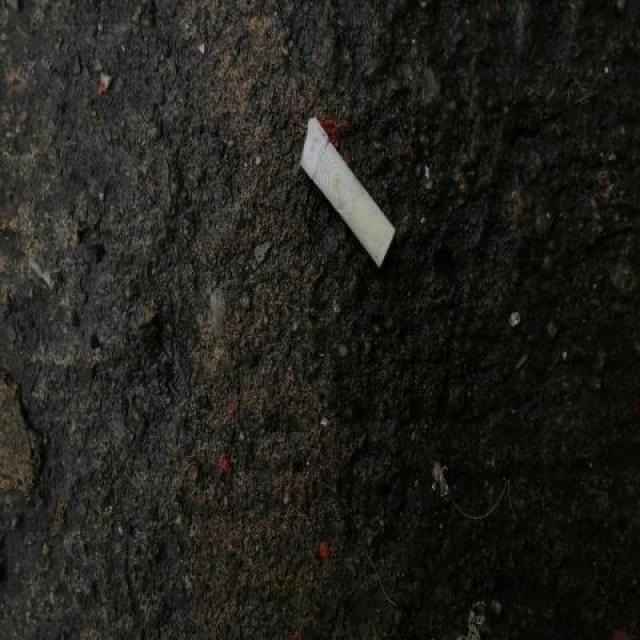non-organic waste: (296, 109, 400, 272)
